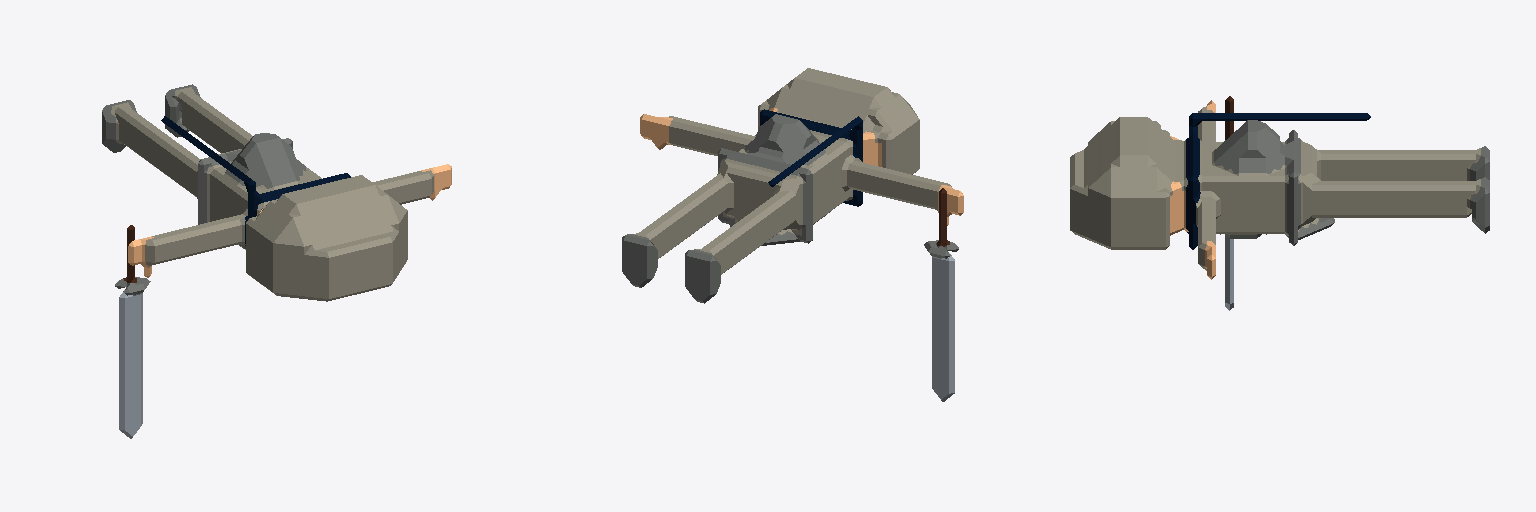
The model's file is knightWithSword-00.mc.obj.
The picture shows the model from 3 angles: view 1: azimuth 30°, elevation 25°; view 2: azimuth 150°, elevation 25°; view 3: azimuth 270°, elevation 25°; orthographic projection.
Visible parts, largest first — view 1: Object.1, Object.2; view 2: Object.1, Object.2; view 3: Object.1, Object.2.
Part boxes in pixels (left/top/right/bottom): Object.1: left=102, top=84, right=451, bottom=301; Object.2: left=115, top=225, right=150, bottom=438; Object.1: left=622, top=68, right=963, bottom=303; Object.2: left=924, top=188, right=958, bottom=401; Object.1: left=1070, top=100, right=1489, bottom=279; Object.2: left=1225, top=96, right=1233, bottom=310.
Bounding box in the file's own units: 41 × 31 × 46.